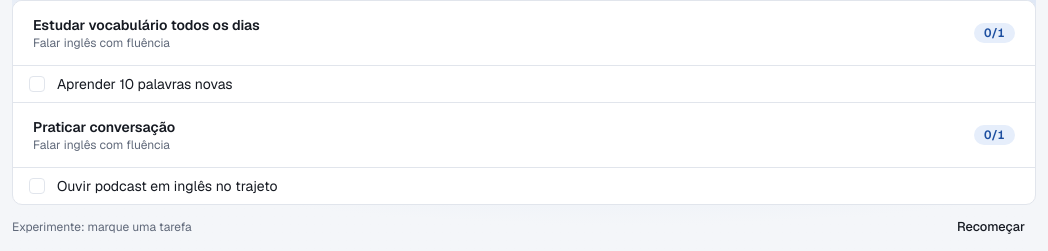
it: DemoCard › ticking a task completes the day for its goal
Step 1. Click the checkbox named "Aprender 10 palavras novas" next to "Aprender 10 palavras novas" → coordinates (37, 84), box [29, 76, 45, 92]
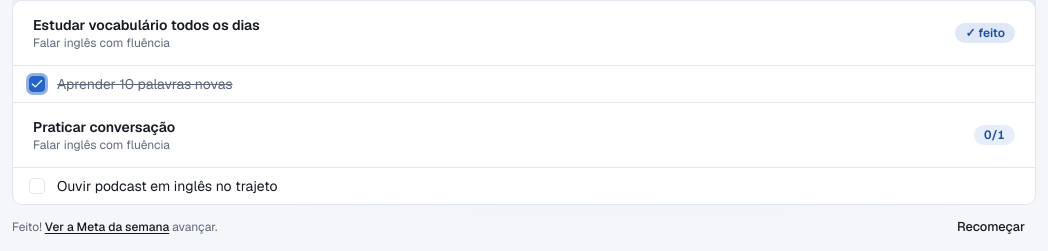
Expected: the checkbox named "Aprender 10 palavras novas" next to "Aprender 10 palavras novas" is checked, [29, 76, 45, 92]
Expected: the text "✓ feito" is shown, [955, 23, 1015, 43]
